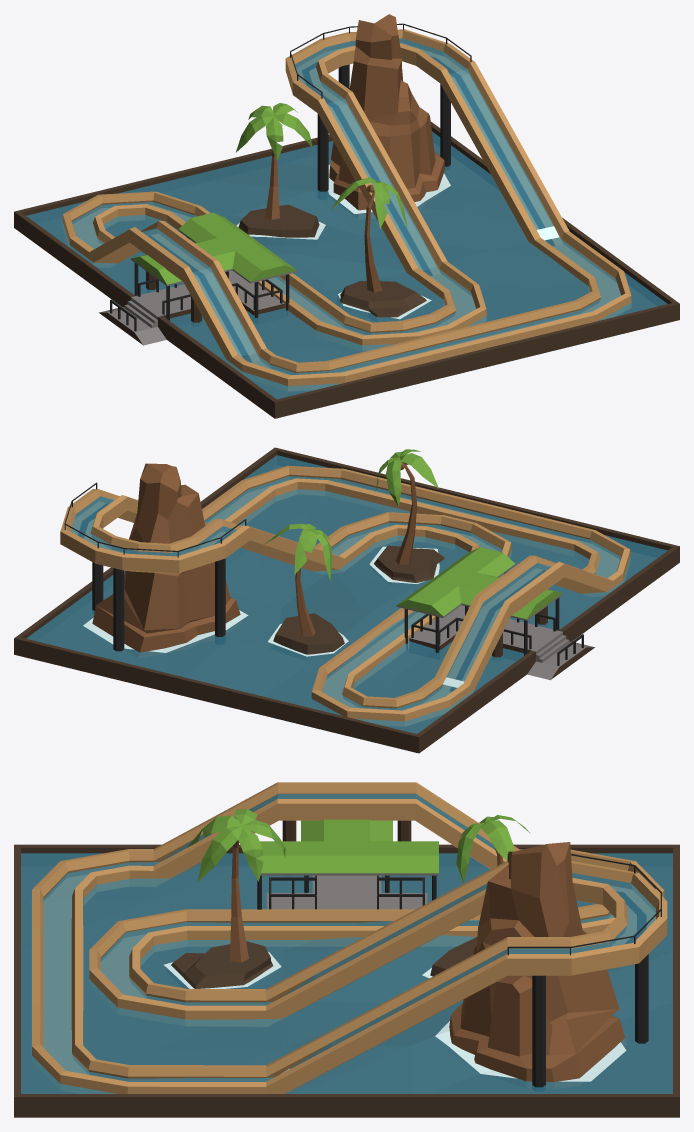
File: amusement-park-water-ride.glb
3 renders of one model, top to bottom at view 1: azimuth 30°, elevation 25°; view 2: azimuth 150°, elevation 25°; view 3: azimuth 270°, elevation 25°, orthographic. The views are drawn at different scales.
Visible parts, largest first — view 1: water-ride; view 2: water-ride; view 3: water-ride.
Boxes of the visible parts, x1,y1,x2,y2 form: water-ride: (14, 14, 679, 418); water-ride: (14, 447, 679, 753); water-ride: (14, 782, 679, 1117).
Bounding box in the file's own units: 27.5 × 10.78 × 29.
